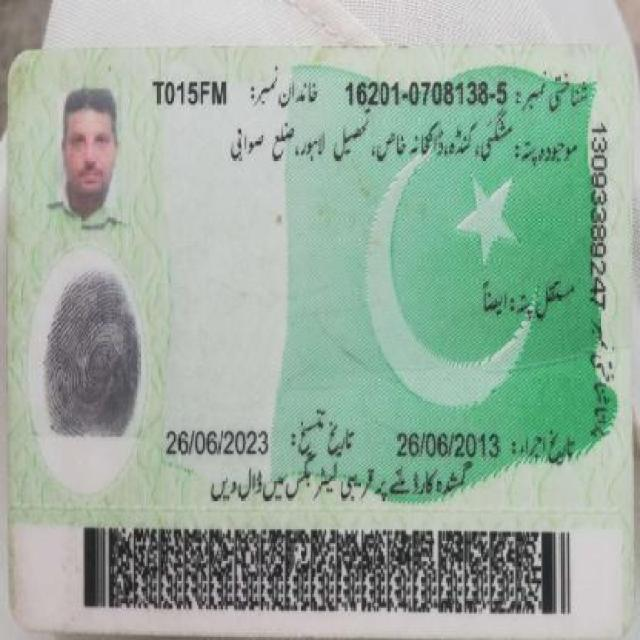Back: (11, 46, 634, 632)
